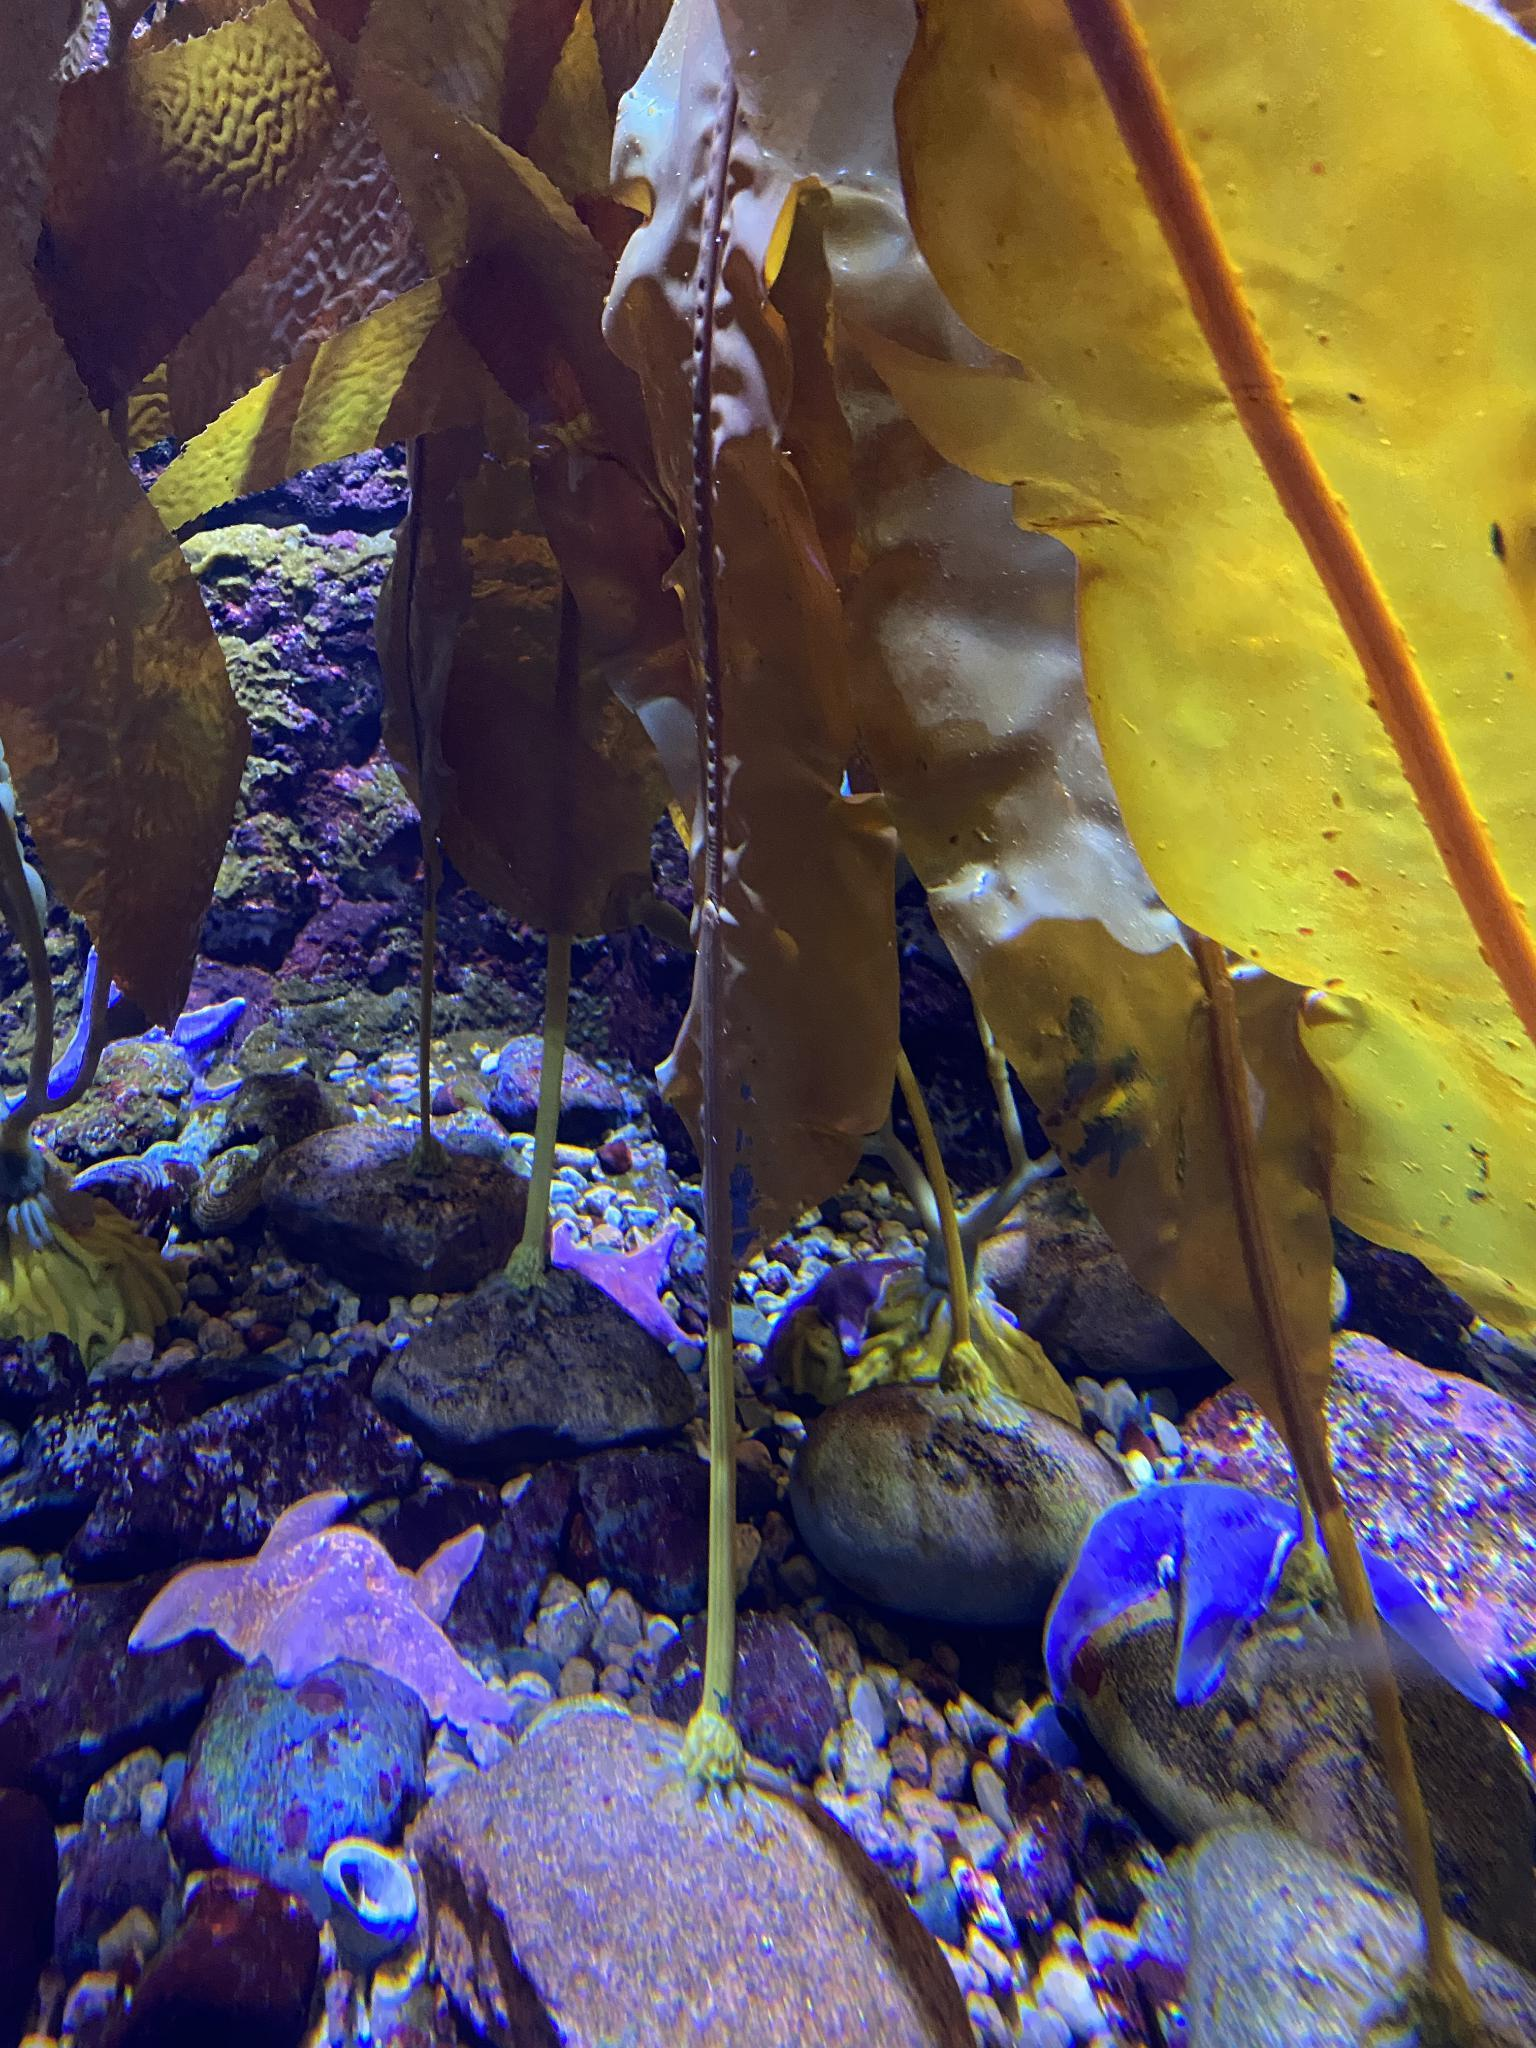starfish: (1042, 1480, 1491, 1709), (136, 1493, 511, 1730), (552, 1219, 697, 1347), (768, 1256, 916, 1355)
